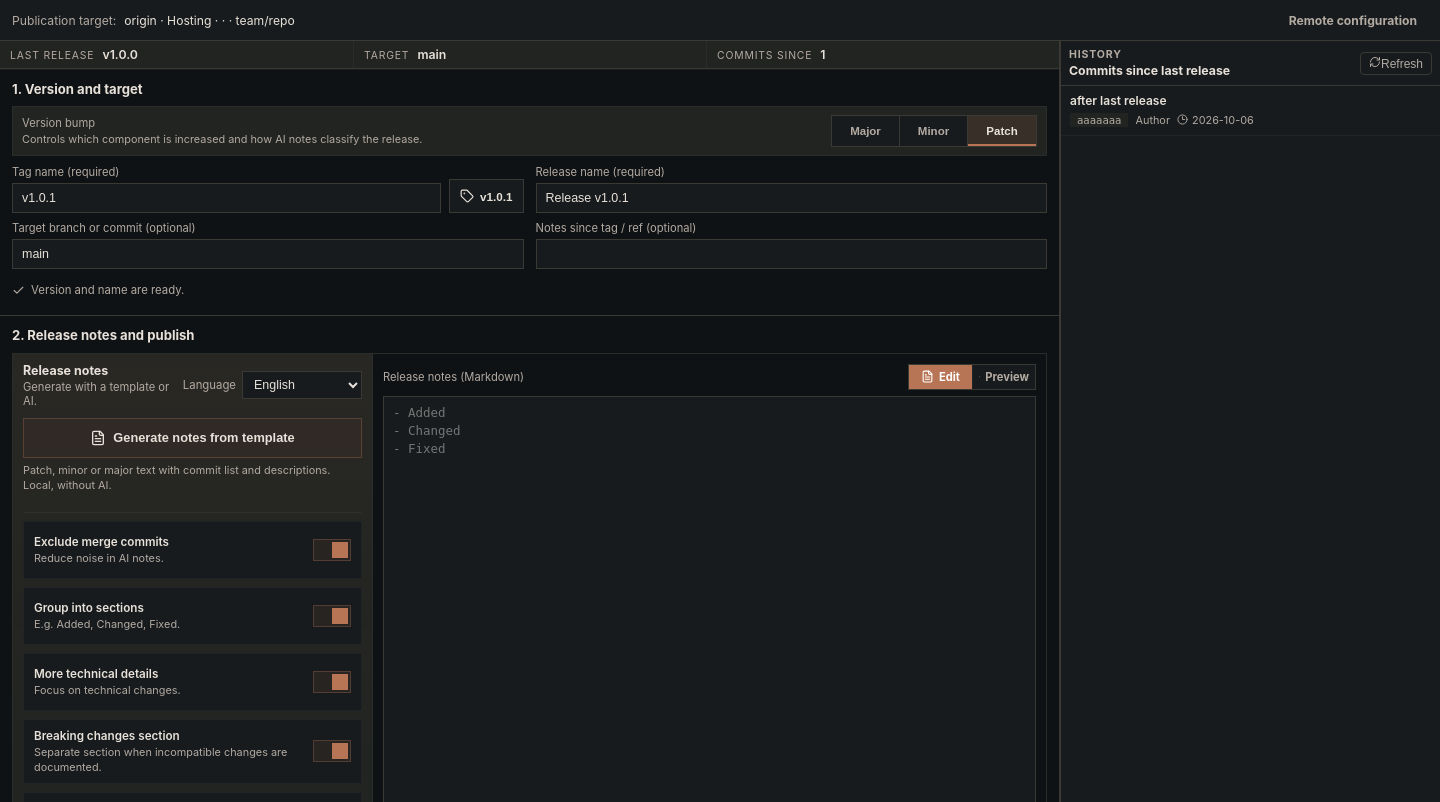
Test case: full repository release creator › retains the original version, AI options, history, notes and asset tools without publishing when opened
This screenshot has width=1440, height=802.
Expected: the field labelled "Tag name (required)" holds "v1.0.1", [12,183,441,213]
What coordinates should you click on to do the following:
click the button "Minor"
I would click on:
 (934, 131)
Its box is [900,116,968,146].
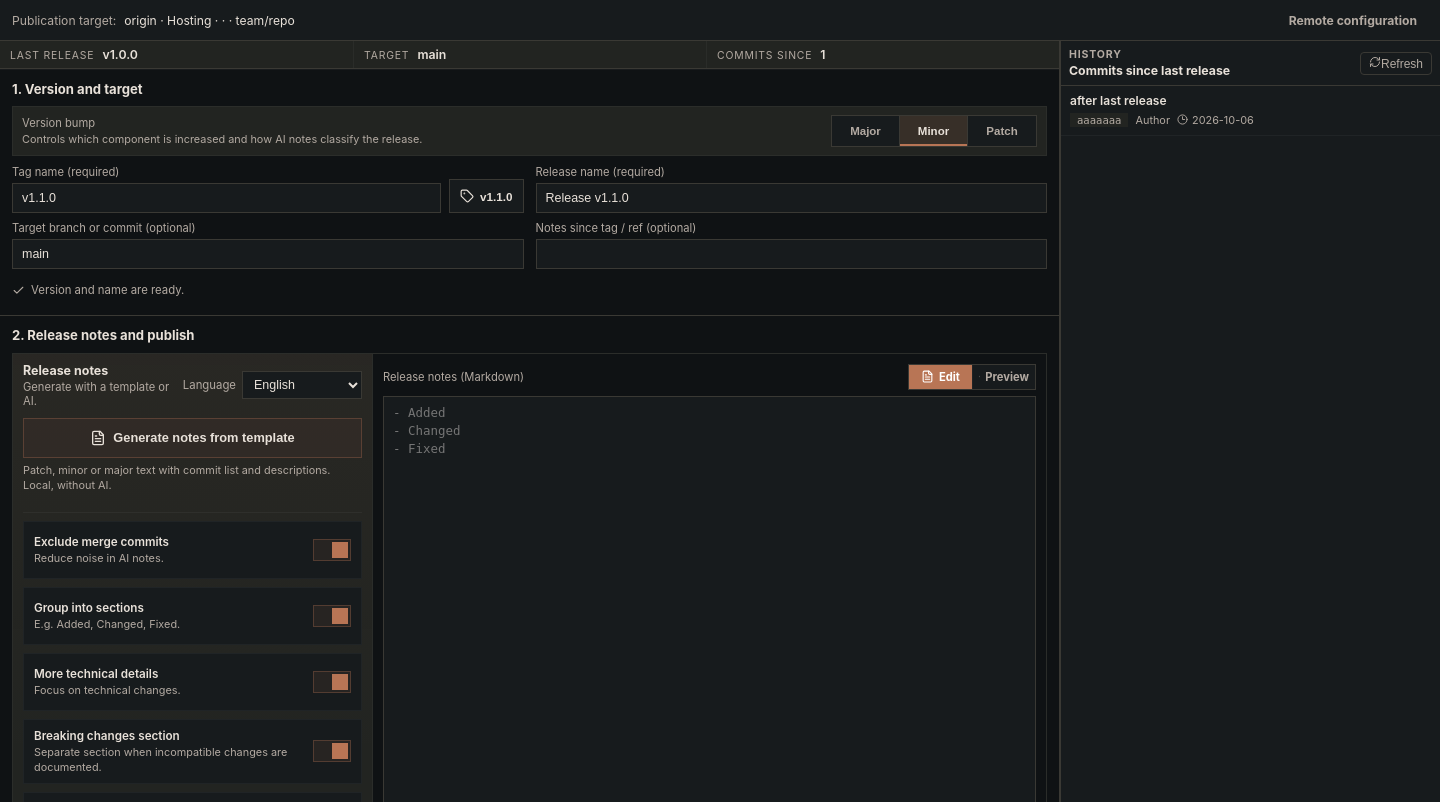
Expected: the field labelled "Tag name (required)" holds "v1.1.0", [12,183,441,213]
